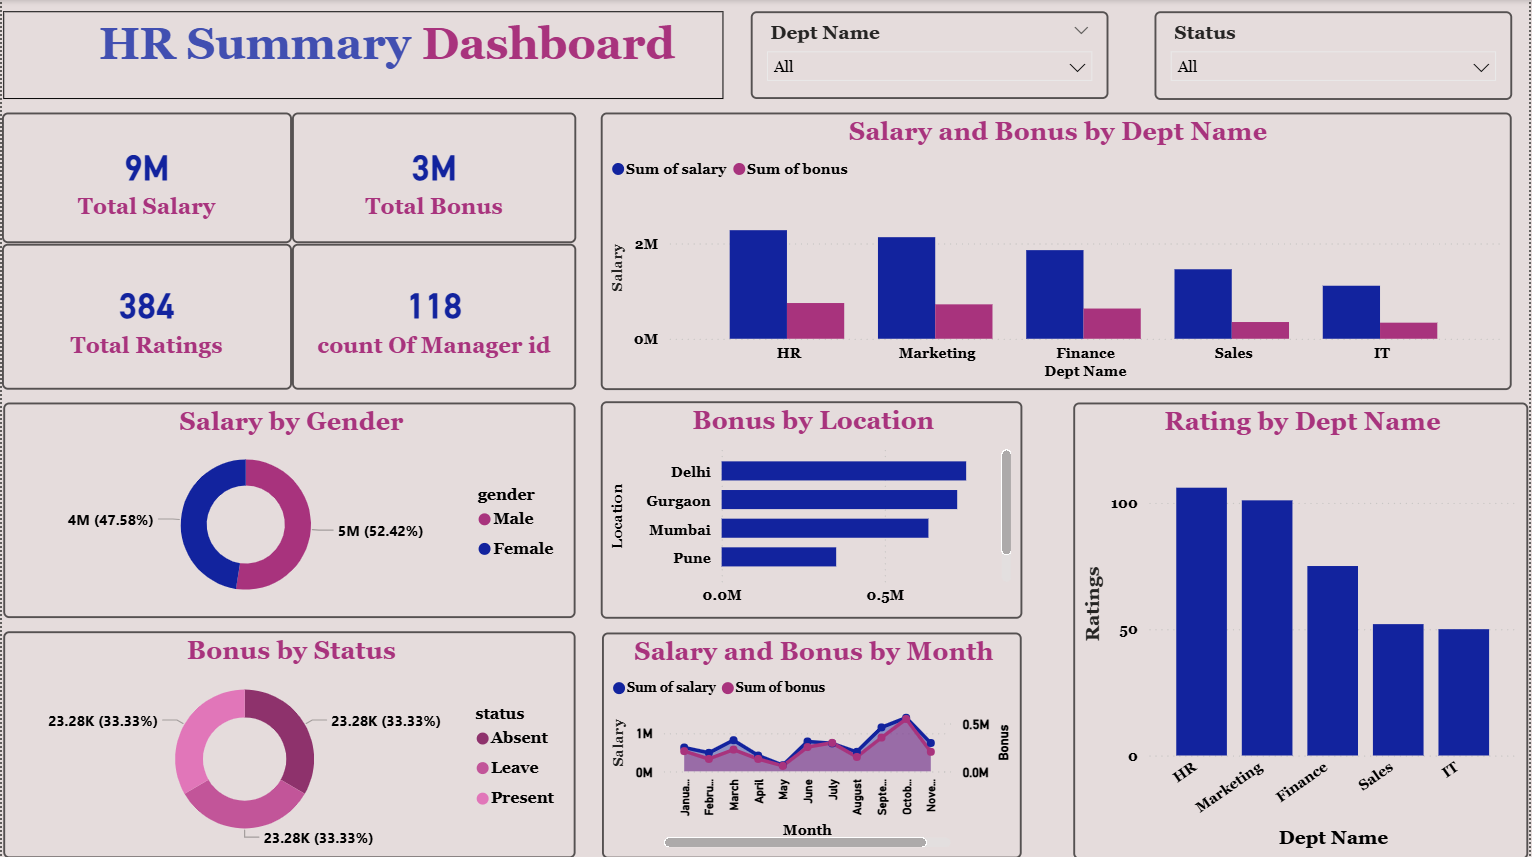

The dashboard page shown, as its layout file describes it:
{"tool":"powerbi","page":{"name":"Page 1","canvas":[1280,720],"ordinal":0},"visuals":[{"type":"textbox","box":[1,9.4,603.8,73.4],"z":0},{"type":"card","fields":{"Values":["Attendance.Total Salary"]},"box":[0,94.7,242.9,109.8],"z":1000},{"type":"card","fields":{"Values":["Attendance.Total Bonus"]},"box":[242.9,94.7,238.8,109.8],"z":2000},{"type":"card","fields":{"Values":["Attendance.Total Ratings"]},"box":[0,204.5,242.9,122.1],"z":3000},{"type":"card","fields":{"Values":["Attendance.count Of Manager id"]},"box":[242.9,204.5,238.8,122.1],"z":4000},{"type":"donutChart","title":"Salary by Gender","fields":{"Category":["Employees.gender"],"Y":["Sum(Employees.salary)"]},"box":[1.4,337.6,480.3,181.1],"z":5000},{"type":"donutChart","title":"Bonus by Status","fields":{"Category":["Attendance.status"],"Y":["Avg(Performance.bonus)"]},"box":[1.4,529.7,480.3,190.7],"z":6000},{"type":"clusteredColumnChart","title":"Salary and Bonus by Dept Name","fields":{"Category":["Departments.dept_name"],"Y":["Sum(Employees.salary)","Sum(Performance.bonus)"]},"box":[502.3,94.2,764,232.6],"z":7000},{"type":"clusteredBarChart","title":"Bonus by Location","fields":{"Category":["Departments.location"],"Y":["Sum(Performance.bonus)"]},"box":[502.3,336,353.5,182.6],"z":8000},{"type":"columnChart","title":"Rating by Dept Name","fields":{"Category":["Departments.dept_name"],"Y":["Sum(Performance.rating)"]},"box":[898.8,337.6,381.5,382.8],"z":9000},{"type":"slicer","fields":{"Values":["Departments.dept_name"]},"box":[627.9,9.3,300,73.3],"z":10000},{"type":"slicer","fields":{"Values":["Attendance.status"]},"box":[966.3,9.3,300,74.4],"z":11000},{"type":"lineChart","title":"Salary and Bonus by Month","fields":{"Category":["Employees.hire_date.Variation.Date Hierarchy.Month"],"Y":["Sum(Employees.salary)"],"Y2":["Sum(Performance.bonus)"]},"box":[503.5,530.2,352.3,189.5],"z":12000}]}

Visuals, with their boxes in screenshot pixels (x1, y1, x2, y2), scaled from the page's 1280x720 canvas onto the 1532x857 screenshot:
textbox: bbox=(1, 11, 724, 99)
card - Attendance.Total Salary: bbox=(0, 113, 291, 243)
card - Attendance.Total Bonus: bbox=(291, 113, 577, 243)
card - Attendance.Total Ratings: bbox=(0, 243, 291, 389)
card - Attendance.count Of Manager id: bbox=(291, 243, 577, 389)
"Salary by Gender" donutChart: bbox=(2, 402, 577, 617)
"Bonus by Status" donutChart: bbox=(2, 630, 577, 856)
"Salary and Bonus by Dept Name" clusteredColumnChart: bbox=(601, 112, 1516, 389)
"Bonus by Location" clusteredBarChart: bbox=(601, 400, 1024, 617)
"Rating by Dept Name" columnChart: bbox=(1076, 402, 1531, 856)
slicer - Departments.dept_name: bbox=(752, 11, 1111, 98)
slicer - Attendance.status: bbox=(1157, 11, 1516, 100)
"Salary and Bonus by Month" lineChart: bbox=(603, 631, 1024, 856)
